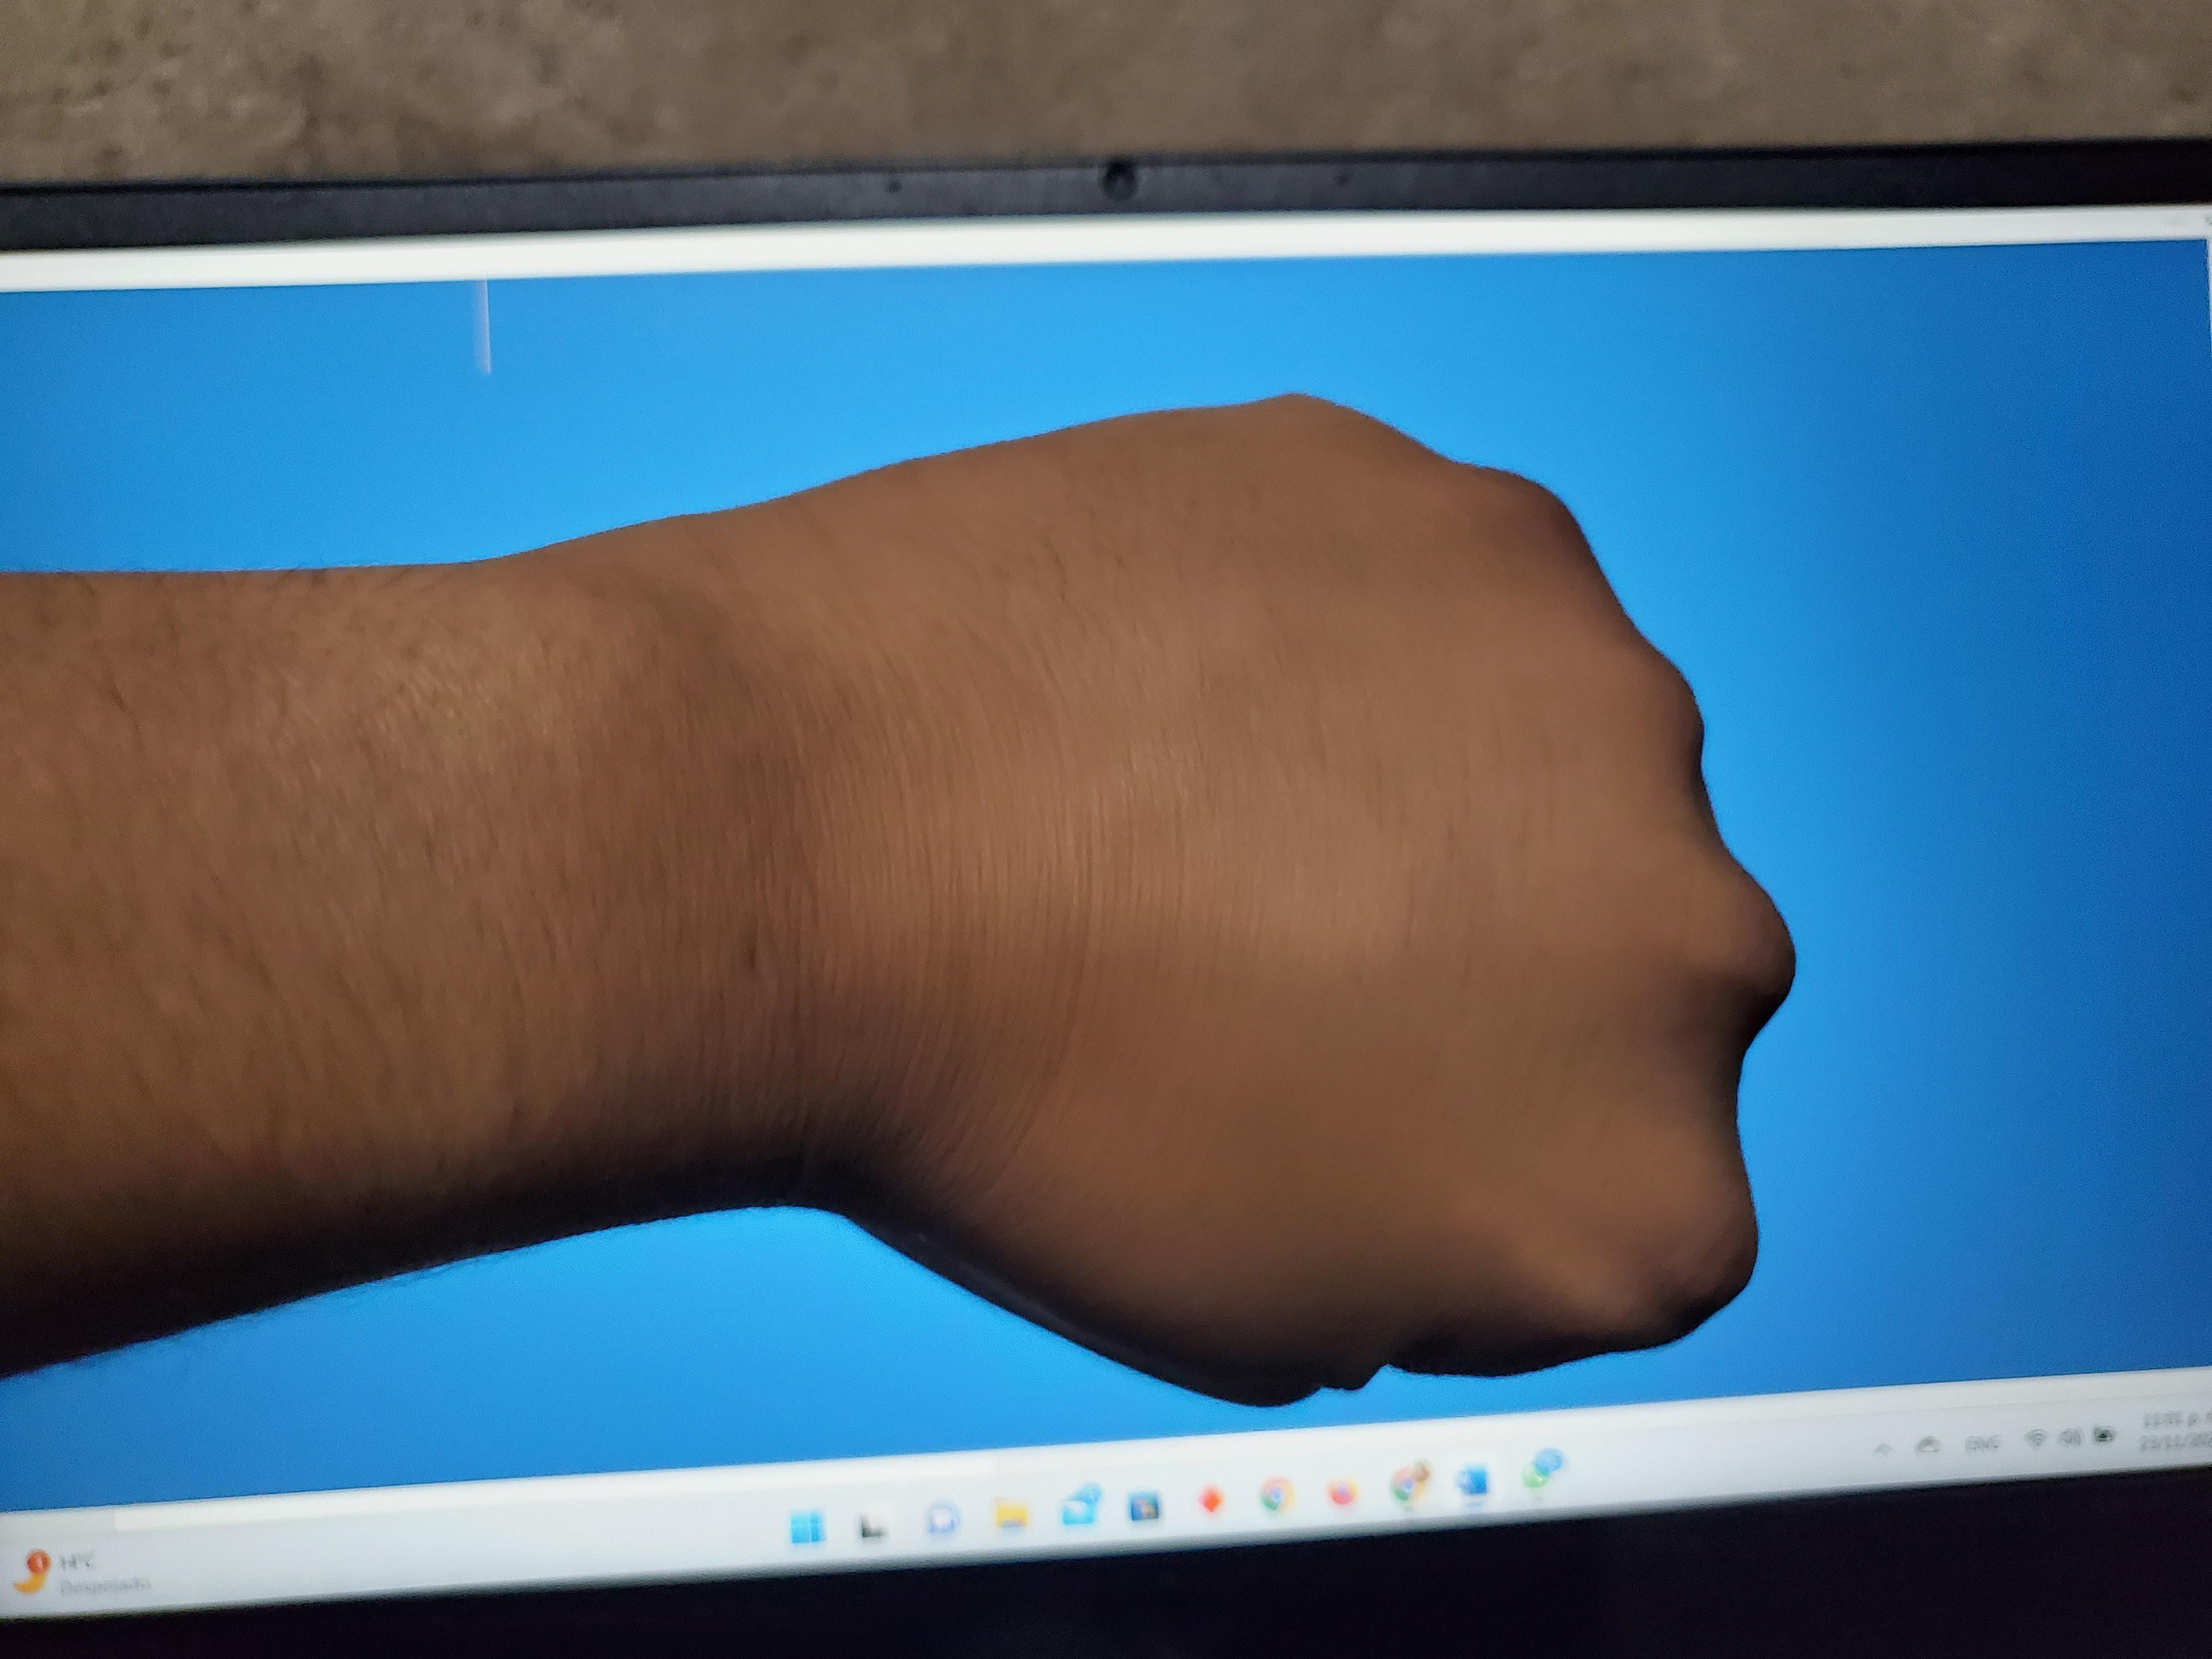Stone: (385, 265, 2195, 1439)
